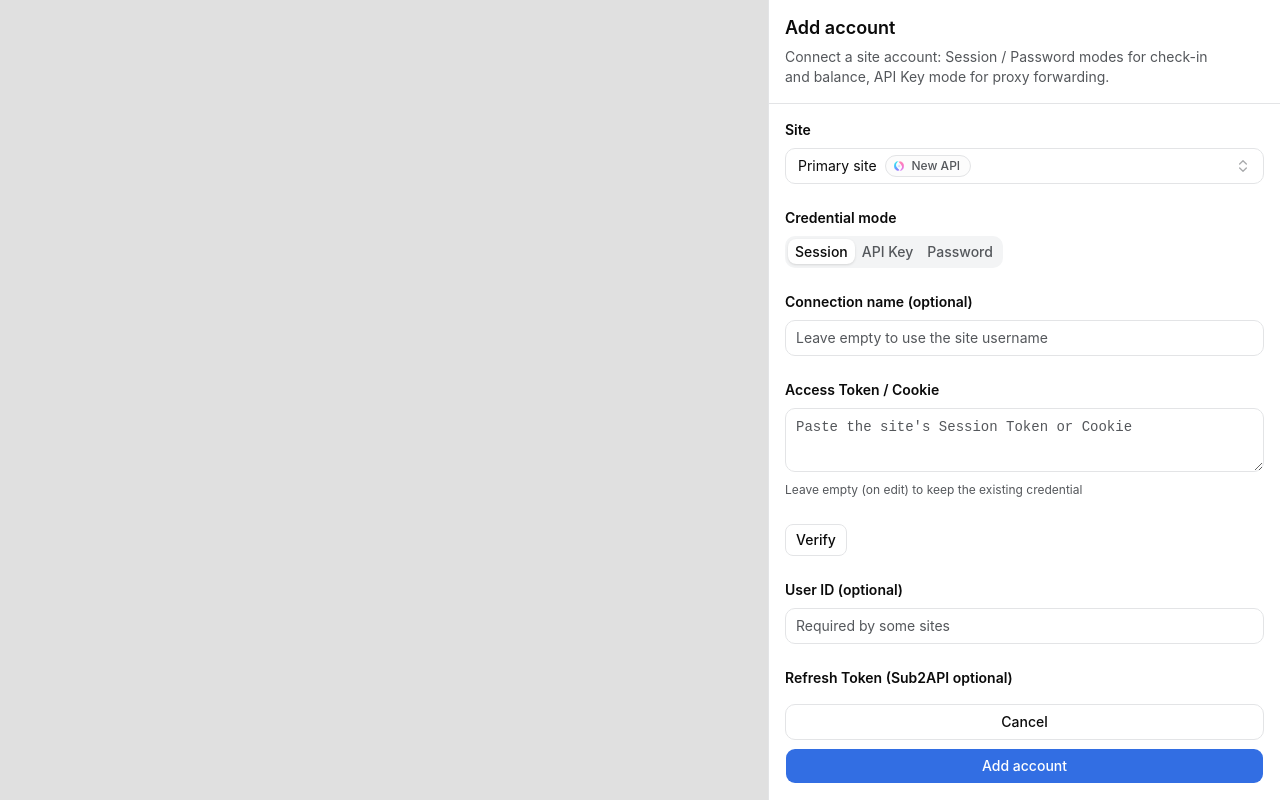
AccountFormDialog credential verification › clears a successful verification when the credential changes
The image size is (1280, 800).
Type "session-token" into the text box labelled "Access Token / Cookie" at (1024, 440), box 785,408 -> 1264,472
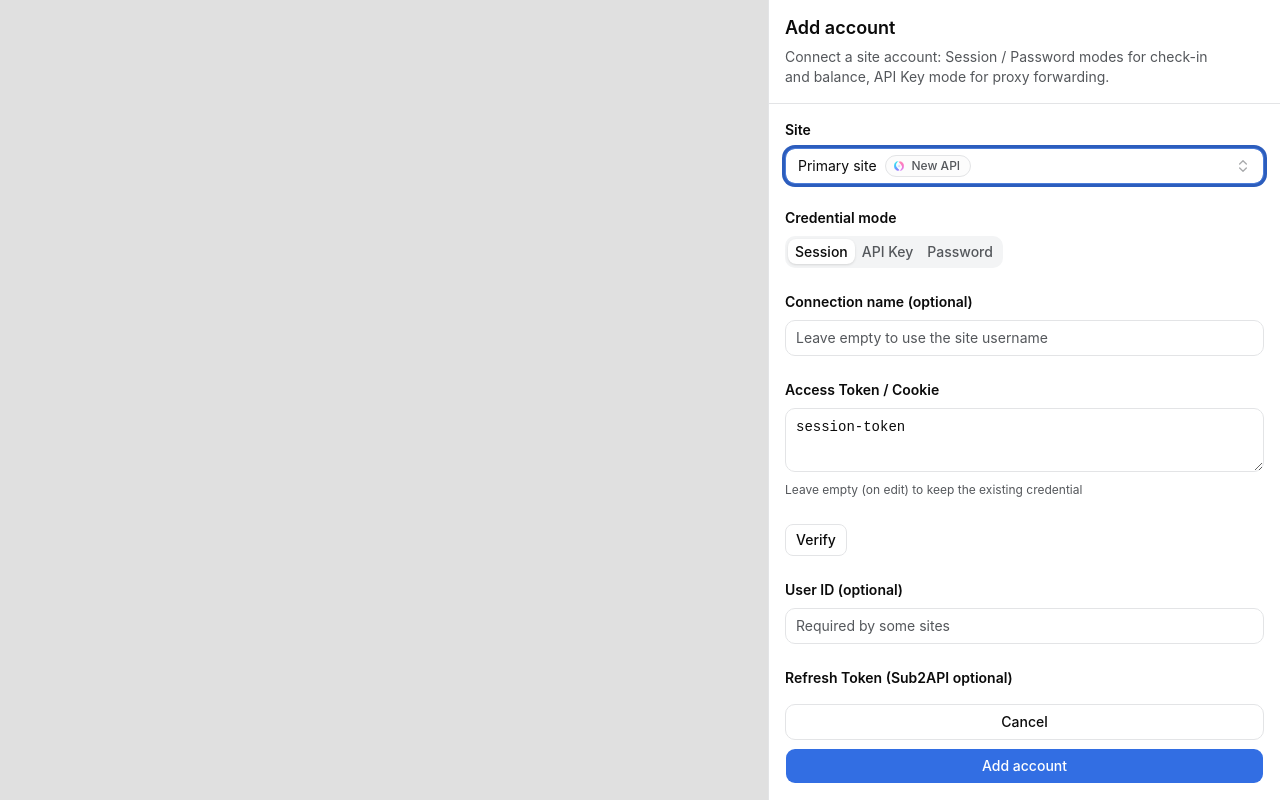
Click the button "Verify" at (816, 540), box 785,524 -> 847,556
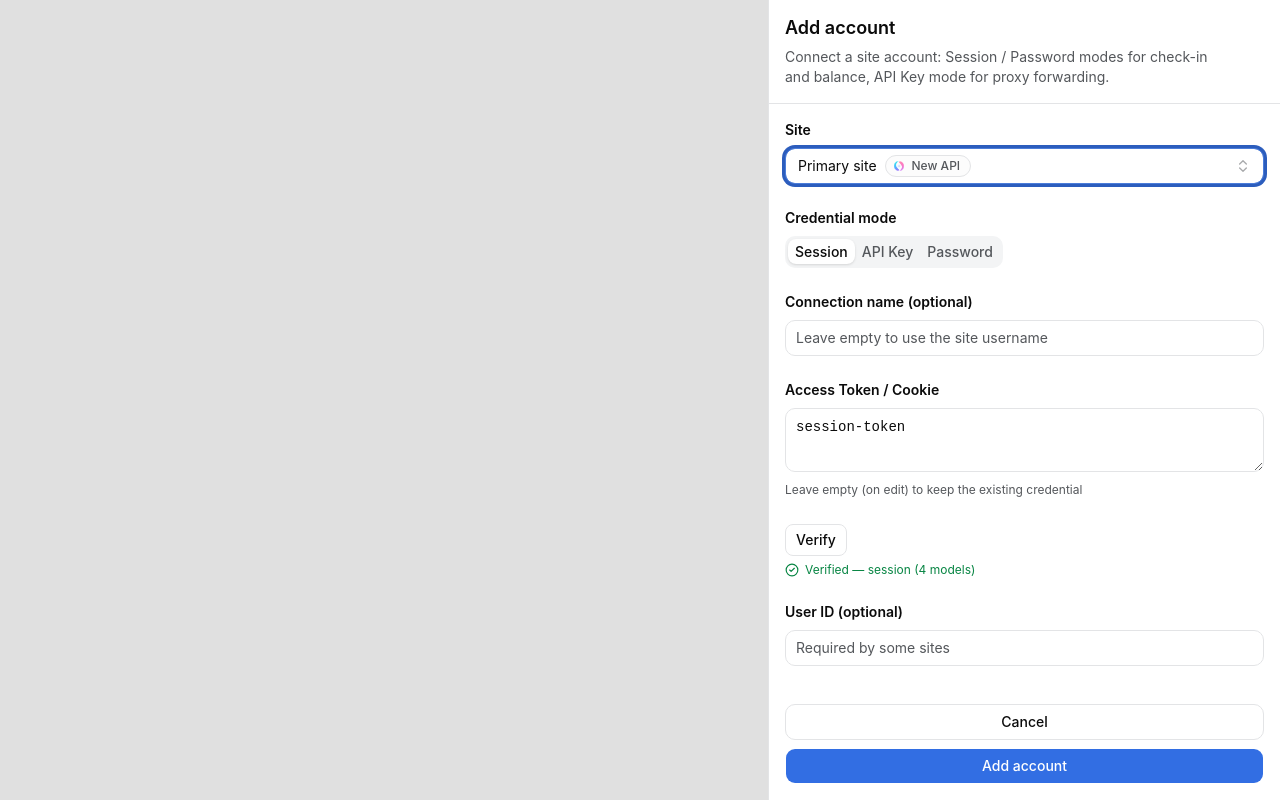
Expected: the text "Verified — session (4 models)" is shown, 785,562 -> 975,577
Replace the text in the text box labelled "Access Token / Cookie" with "replacement-token" at (1024, 440), box 785,408 -> 1264,472
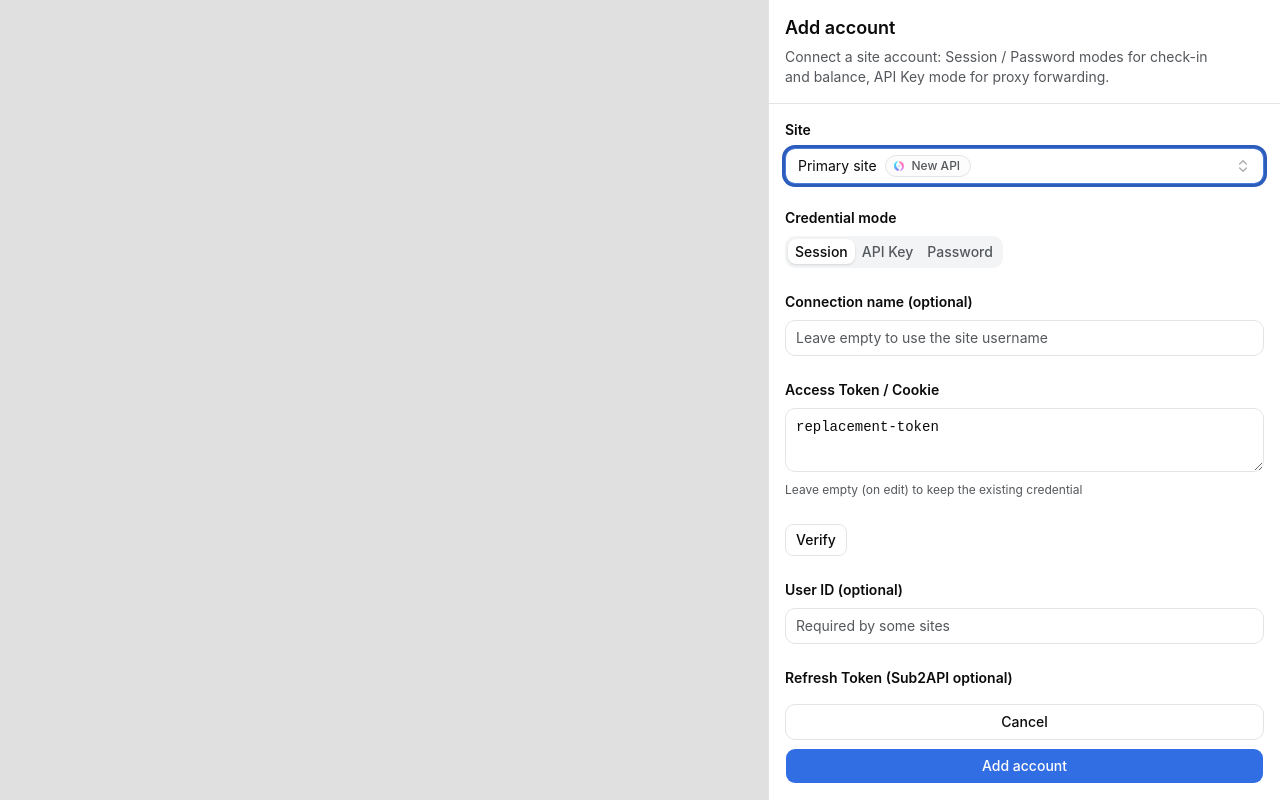
Expected: the text "Verified" is gone
